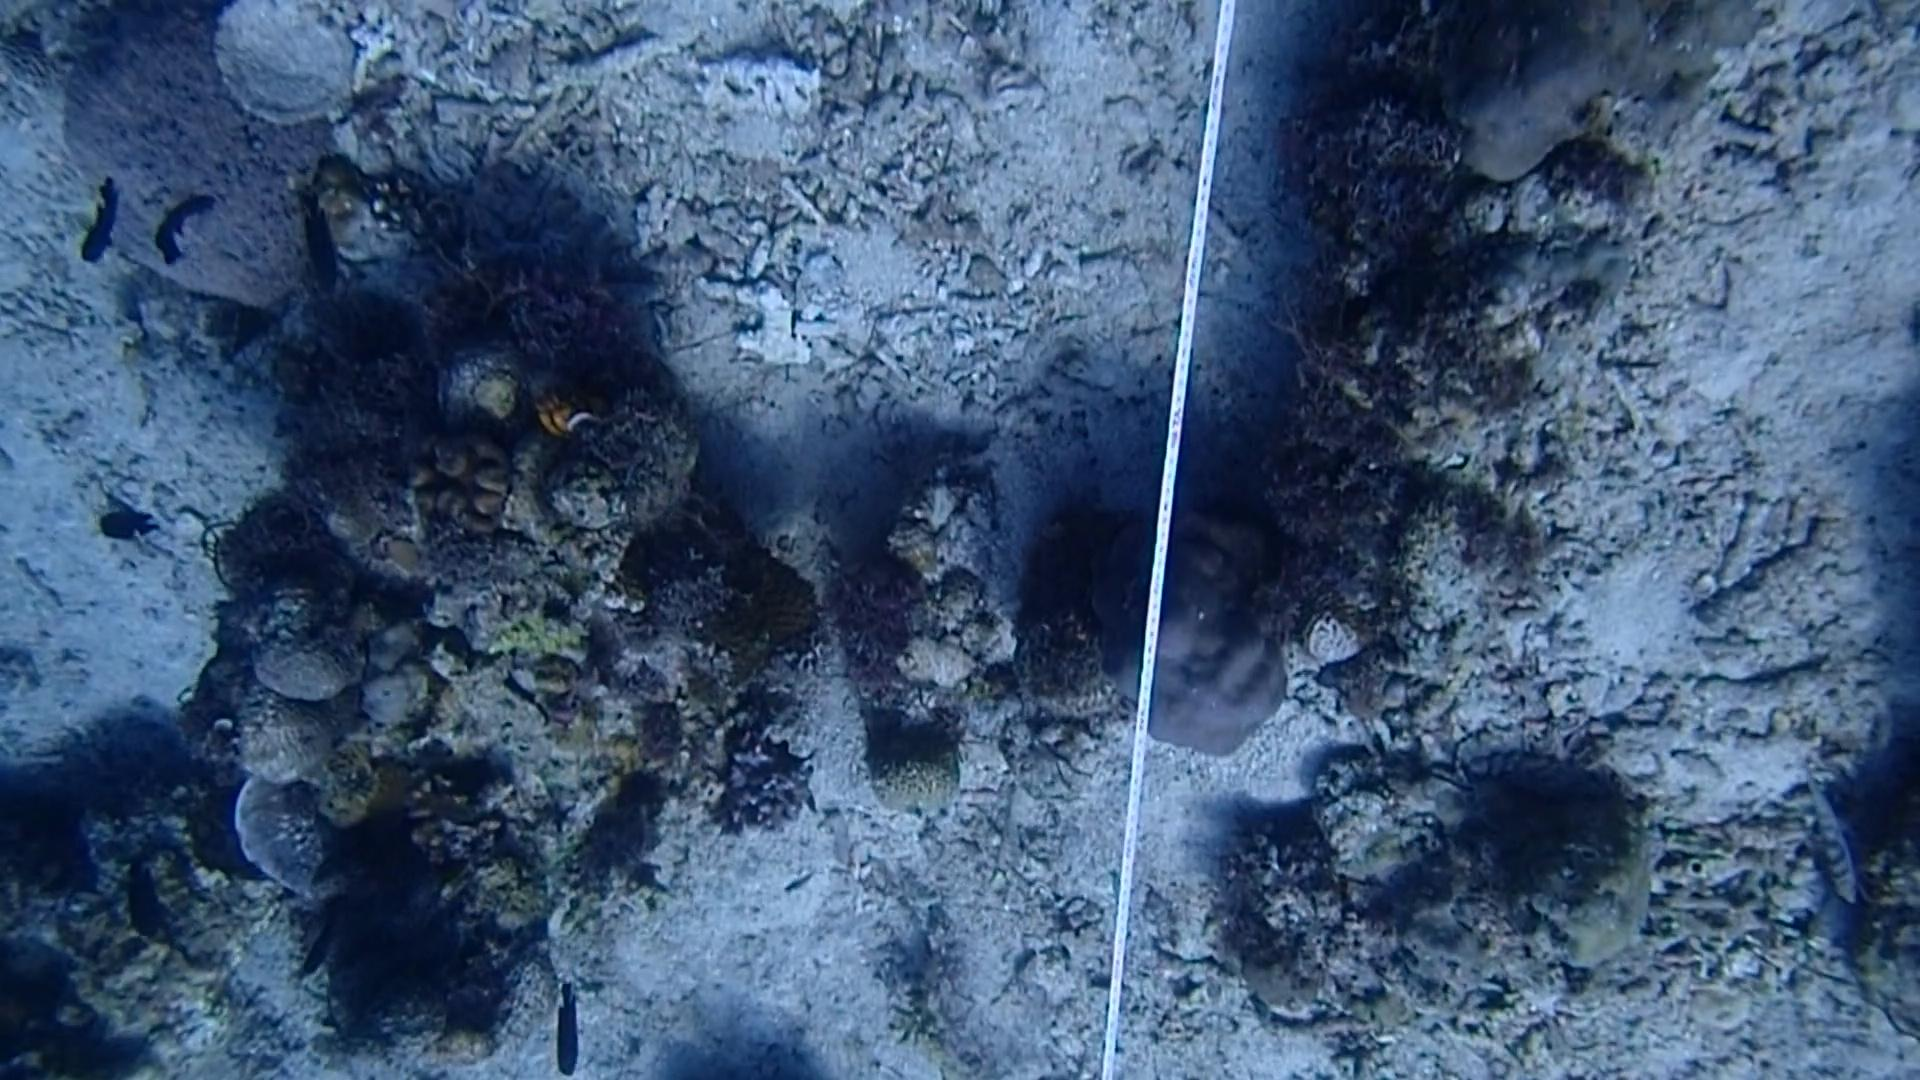Dark Fish: (285, 175, 355, 314), (69, 171, 132, 285), (150, 191, 220, 276), (95, 488, 170, 560), (539, 972, 588, 1080), (117, 841, 166, 947), (294, 897, 344, 998)
Light Fish w Back Stripes: (1793, 782, 1871, 905)
